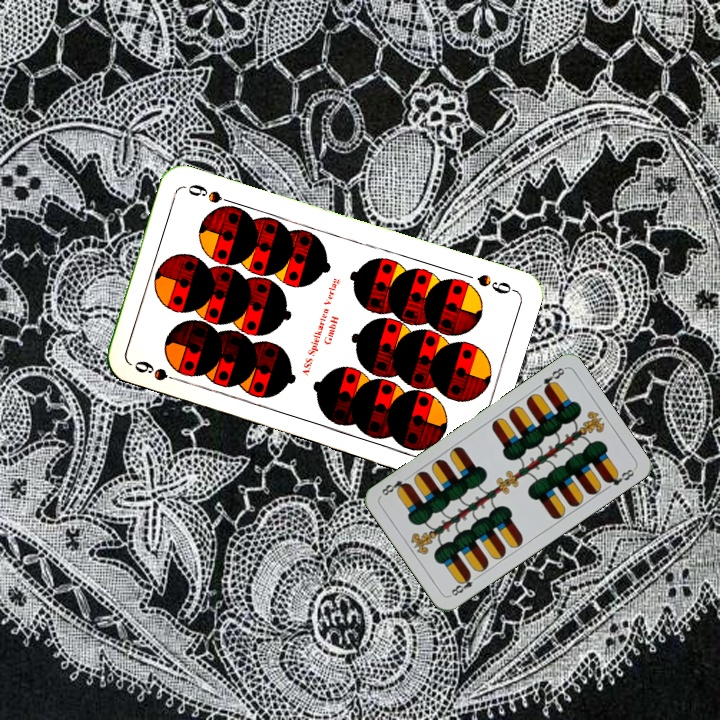E8: (446, 570, 482, 599), (539, 363, 567, 395)
S9: (130, 356, 186, 386), (473, 270, 518, 297)
